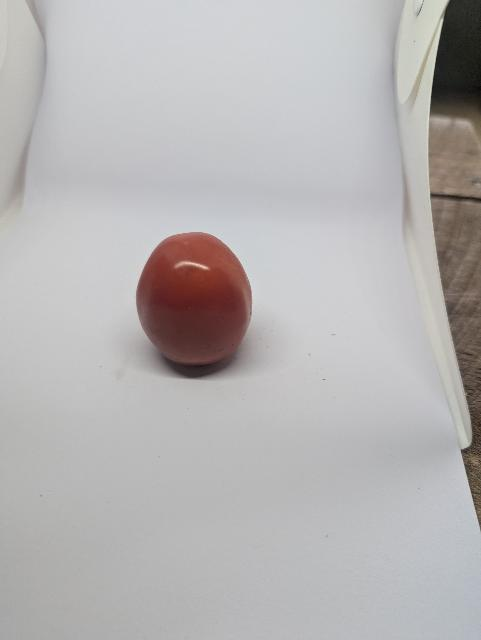red: (126, 226, 272, 375)
